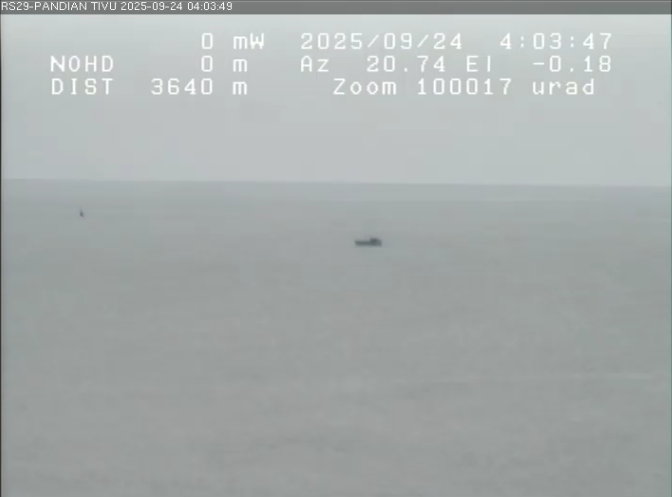FISHING_BOAT: (345, 226, 395, 256)
